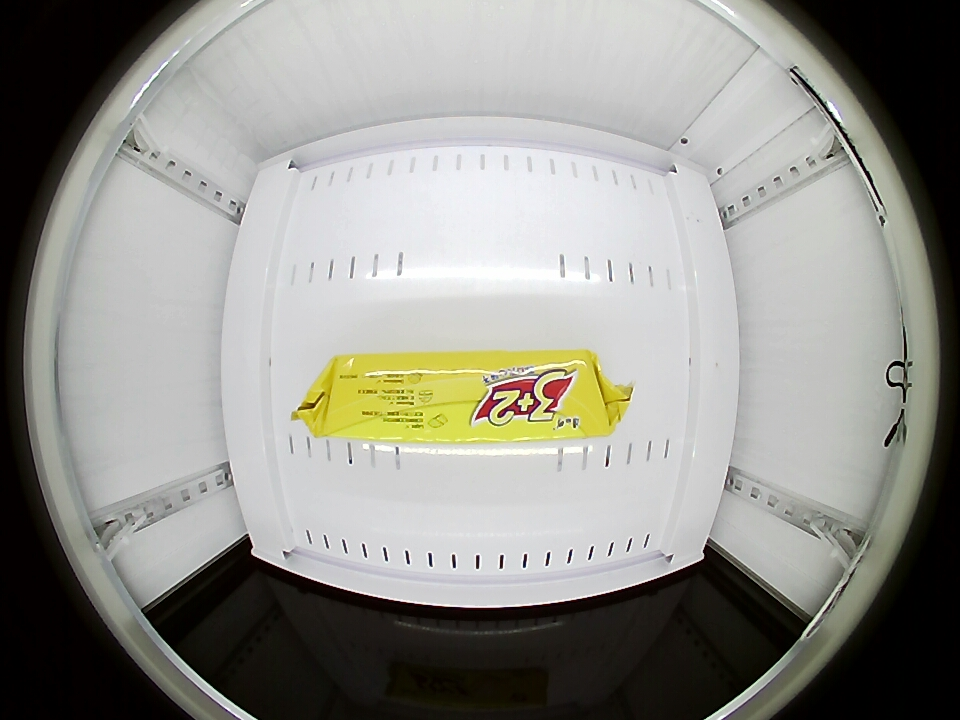3+2-2: (309, 351, 609, 444)
